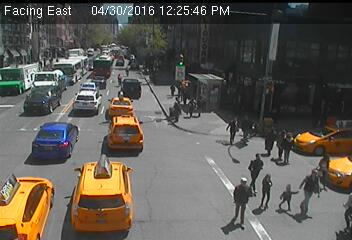neg: (114, 119, 143, 157), (17, 122, 45, 159), (140, 29, 167, 65), (74, 88, 97, 119), (188, 143, 209, 171), (151, 171, 170, 198), (225, 53, 244, 78), (87, 154, 106, 178), (264, 61, 283, 85), (27, 52, 44, 76), (178, 52, 194, 74), (59, 32, 75, 54), (51, 186, 66, 205), (96, 54, 110, 72)
pos: (297, 166, 334, 215), (217, 173, 253, 221), (254, 171, 277, 203), (280, 132, 303, 162), (248, 151, 269, 181), (222, 112, 243, 141), (262, 127, 282, 154), (167, 98, 186, 124), (242, 115, 260, 139), (279, 183, 296, 207), (169, 80, 180, 95), (116, 72, 125, 84), (126, 64, 134, 75)
